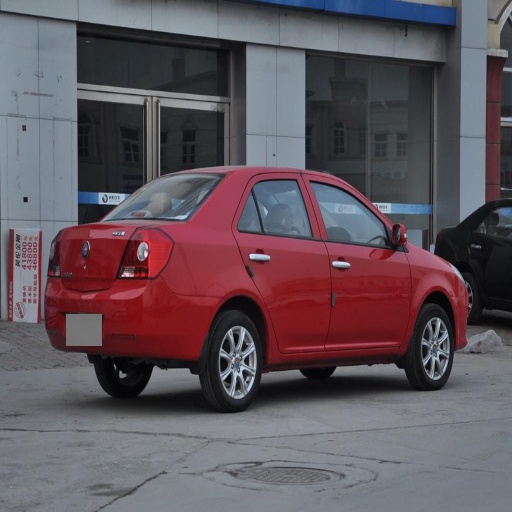back_bumper: (56, 277, 218, 359)
back_right_door: (234, 174, 331, 349)
tailgate: (59, 220, 151, 281)
trunk: (52, 224, 162, 313)
